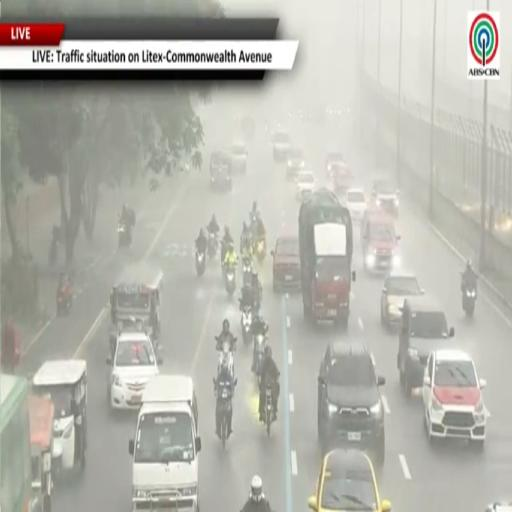bus: (0, 374, 31, 511)
car: (318, 340, 385, 467), (423, 349, 487, 449), (397, 295, 454, 397), (308, 450, 391, 511), (107, 332, 161, 409), (381, 269, 424, 328), (361, 211, 401, 271), (271, 236, 300, 292), (372, 179, 399, 217), (210, 151, 232, 190), (331, 164, 354, 200), (345, 188, 366, 222), (272, 130, 291, 163), (230, 141, 248, 174), (286, 149, 305, 180), (296, 170, 315, 200), (326, 151, 344, 178), (486, 502, 511, 511)
jeepney: (110, 262, 163, 341), (29, 395, 54, 511), (331, 163, 353, 197)
motorcycle: (217, 389, 232, 449), (215, 336, 236, 377), (254, 334, 266, 386), (462, 282, 477, 316), (265, 383, 273, 437), (56, 291, 72, 316), (463, 286, 476, 316), (242, 306, 252, 345), (118, 223, 131, 248), (225, 266, 235, 296), (48, 237, 58, 266), (255, 238, 266, 263), (208, 233, 218, 259), (243, 259, 253, 284), (196, 251, 205, 276)
truck: (299, 188, 356, 327)
